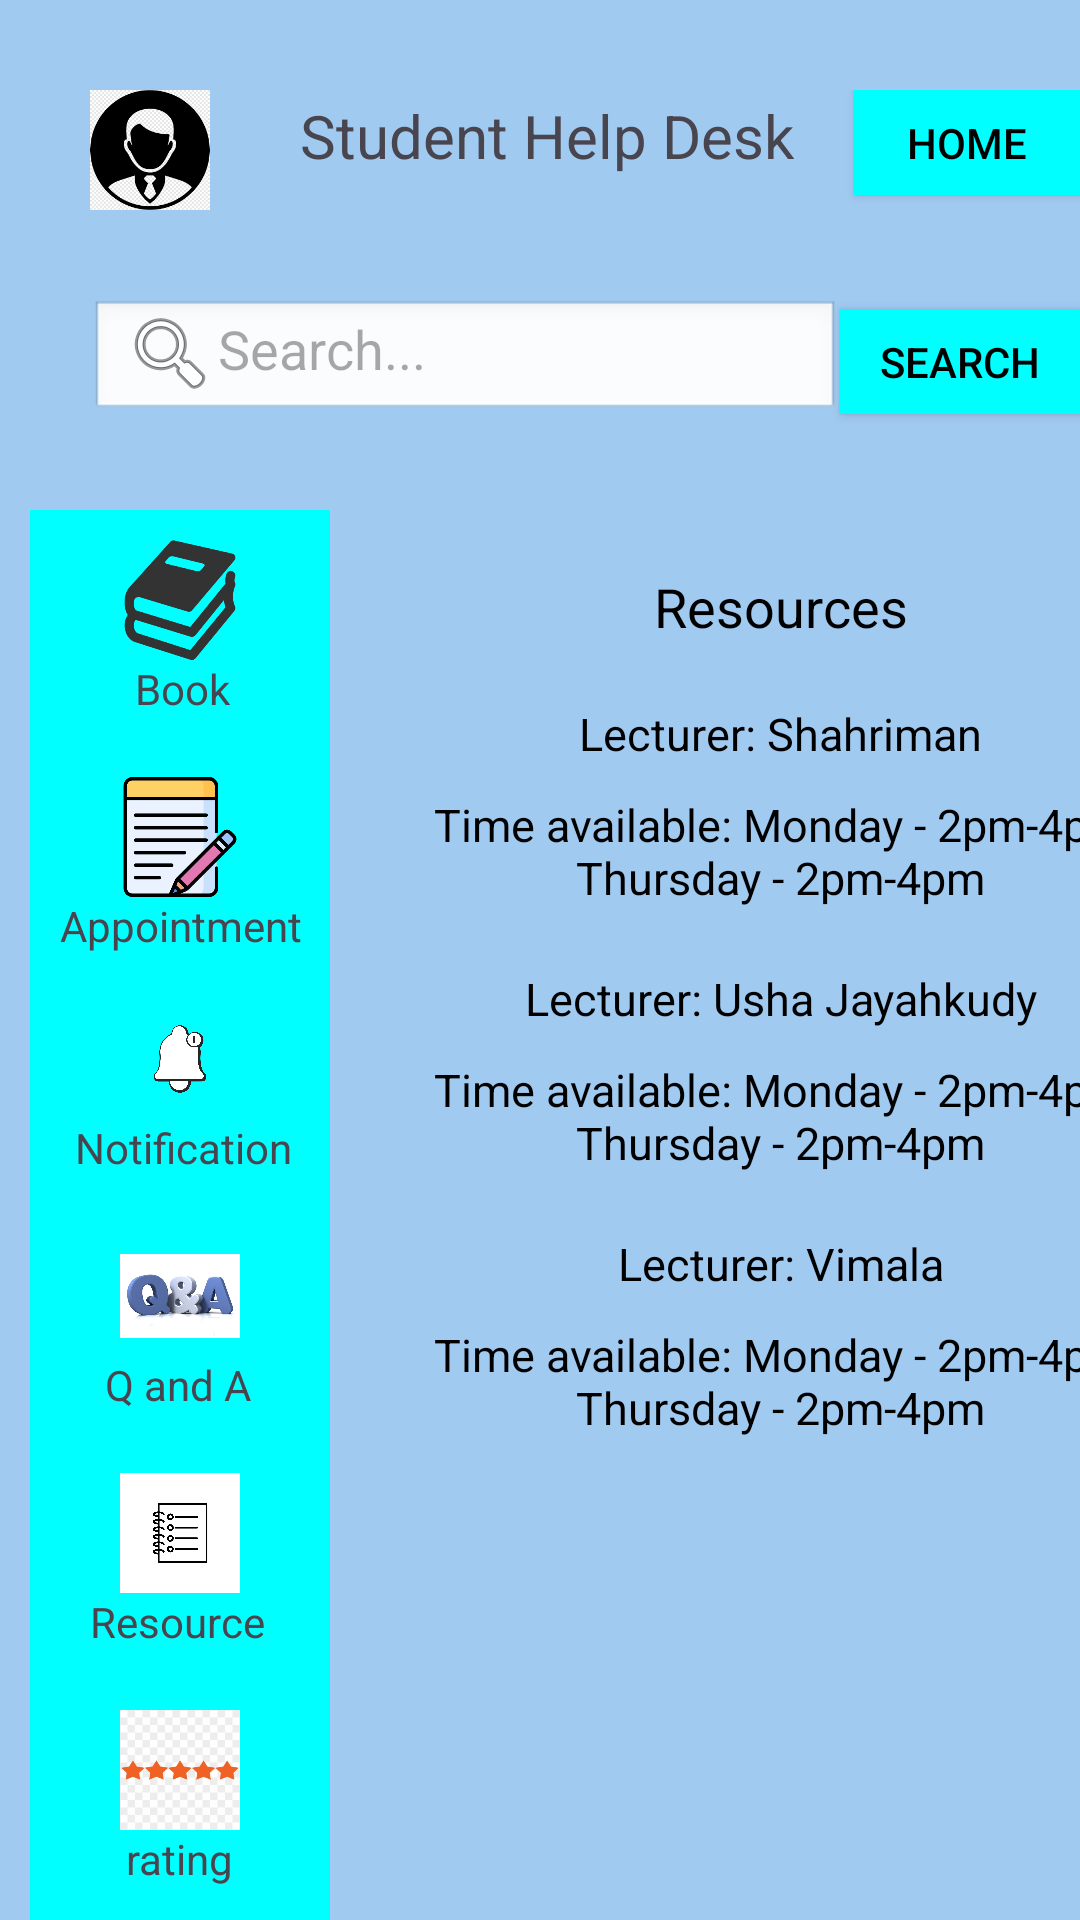

Named icons in this screenshot (1080px x 1920px) and their bounding boxes, (x1, y1, x2, y2):
profile: (90, 90, 210, 210)
